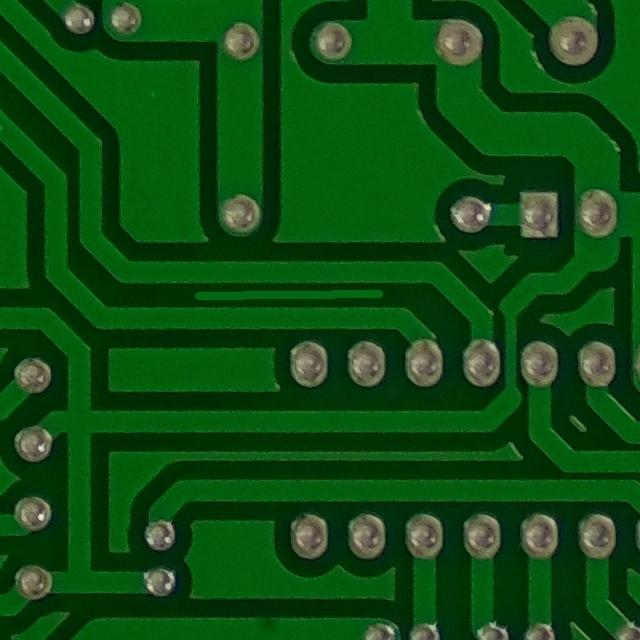spurious_copper: (190, 274, 390, 326)
